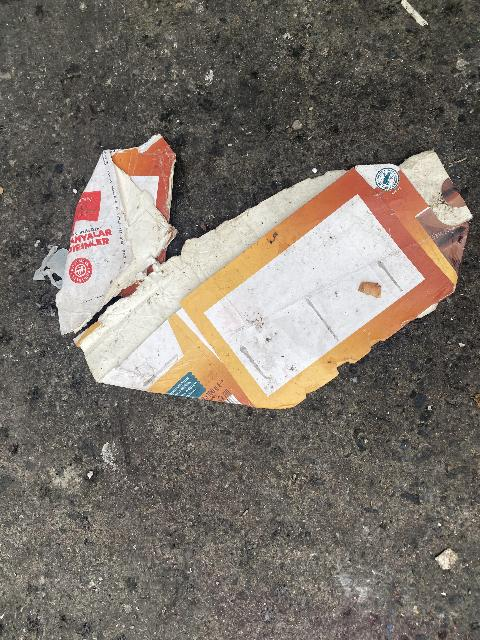Kagit: (35, 124, 476, 413), (386, 0, 435, 30)
